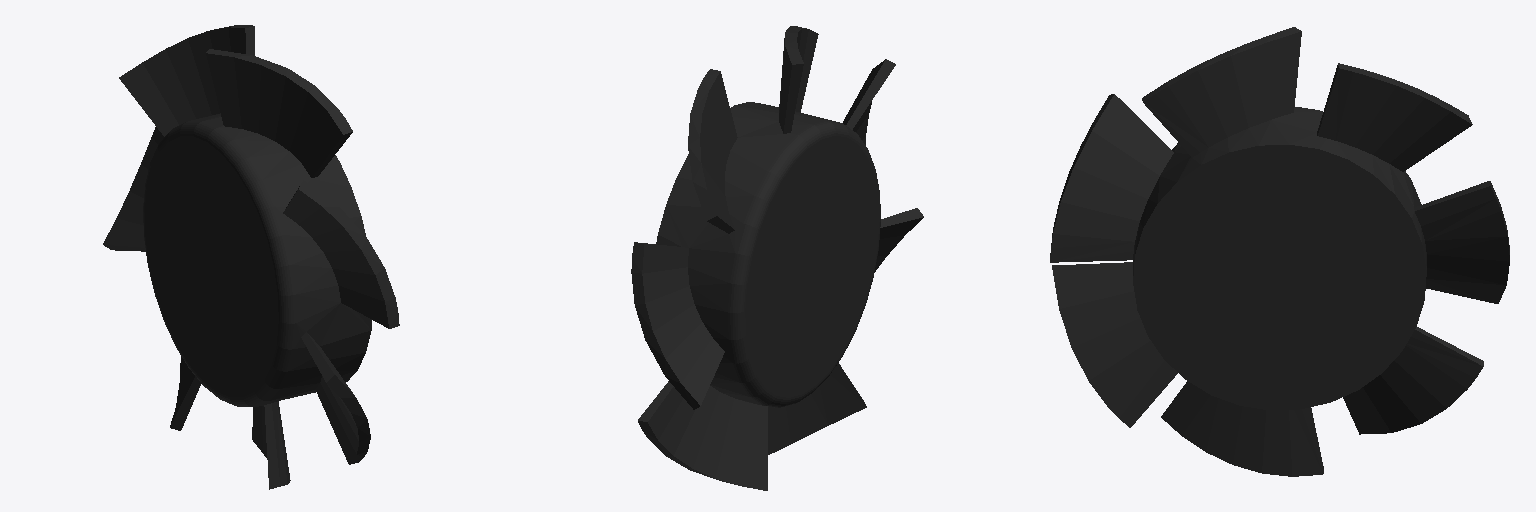
File: MK2_EFan.obj
3 renders of one model, left to right at view 1: azimuth 30°, elevation 25°; view 2: azimuth 150°, elevation 25°; view 3: azimuth 270°, elevation 25°, orthographic.
Parts seen in each view (by area): view 1: patch0; view 2: patch0; view 3: patch0.
Boxes of the visible parts, box(x1,y1,x2,y2) form: patch0: box(103, 25, 399, 489); patch0: box(631, 26, 923, 490); patch0: box(1050, 27, 1509, 476).
Bounding box in the file's own units: 8 × 35.98 × 35.99.